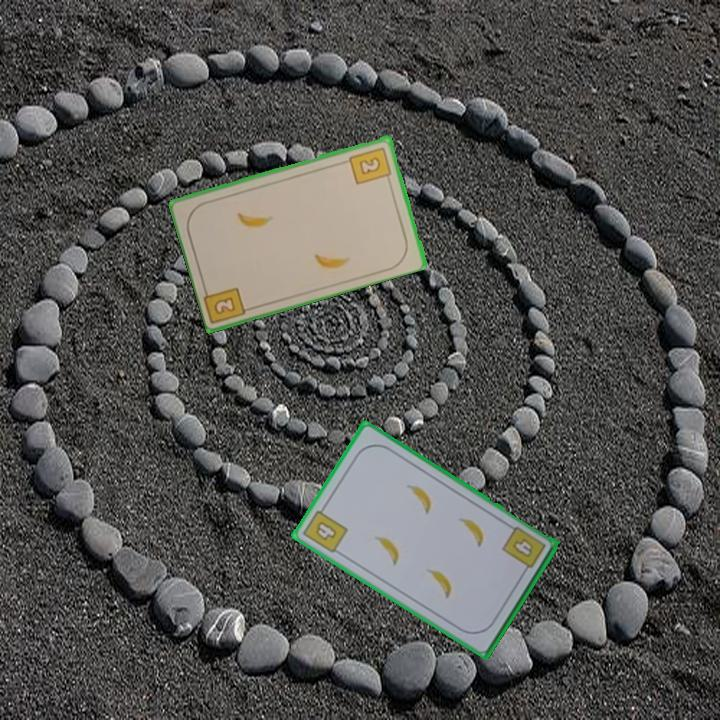2b: (346, 143, 395, 187), (210, 293, 239, 317)
4b: (299, 501, 351, 556), (509, 535, 534, 558)
